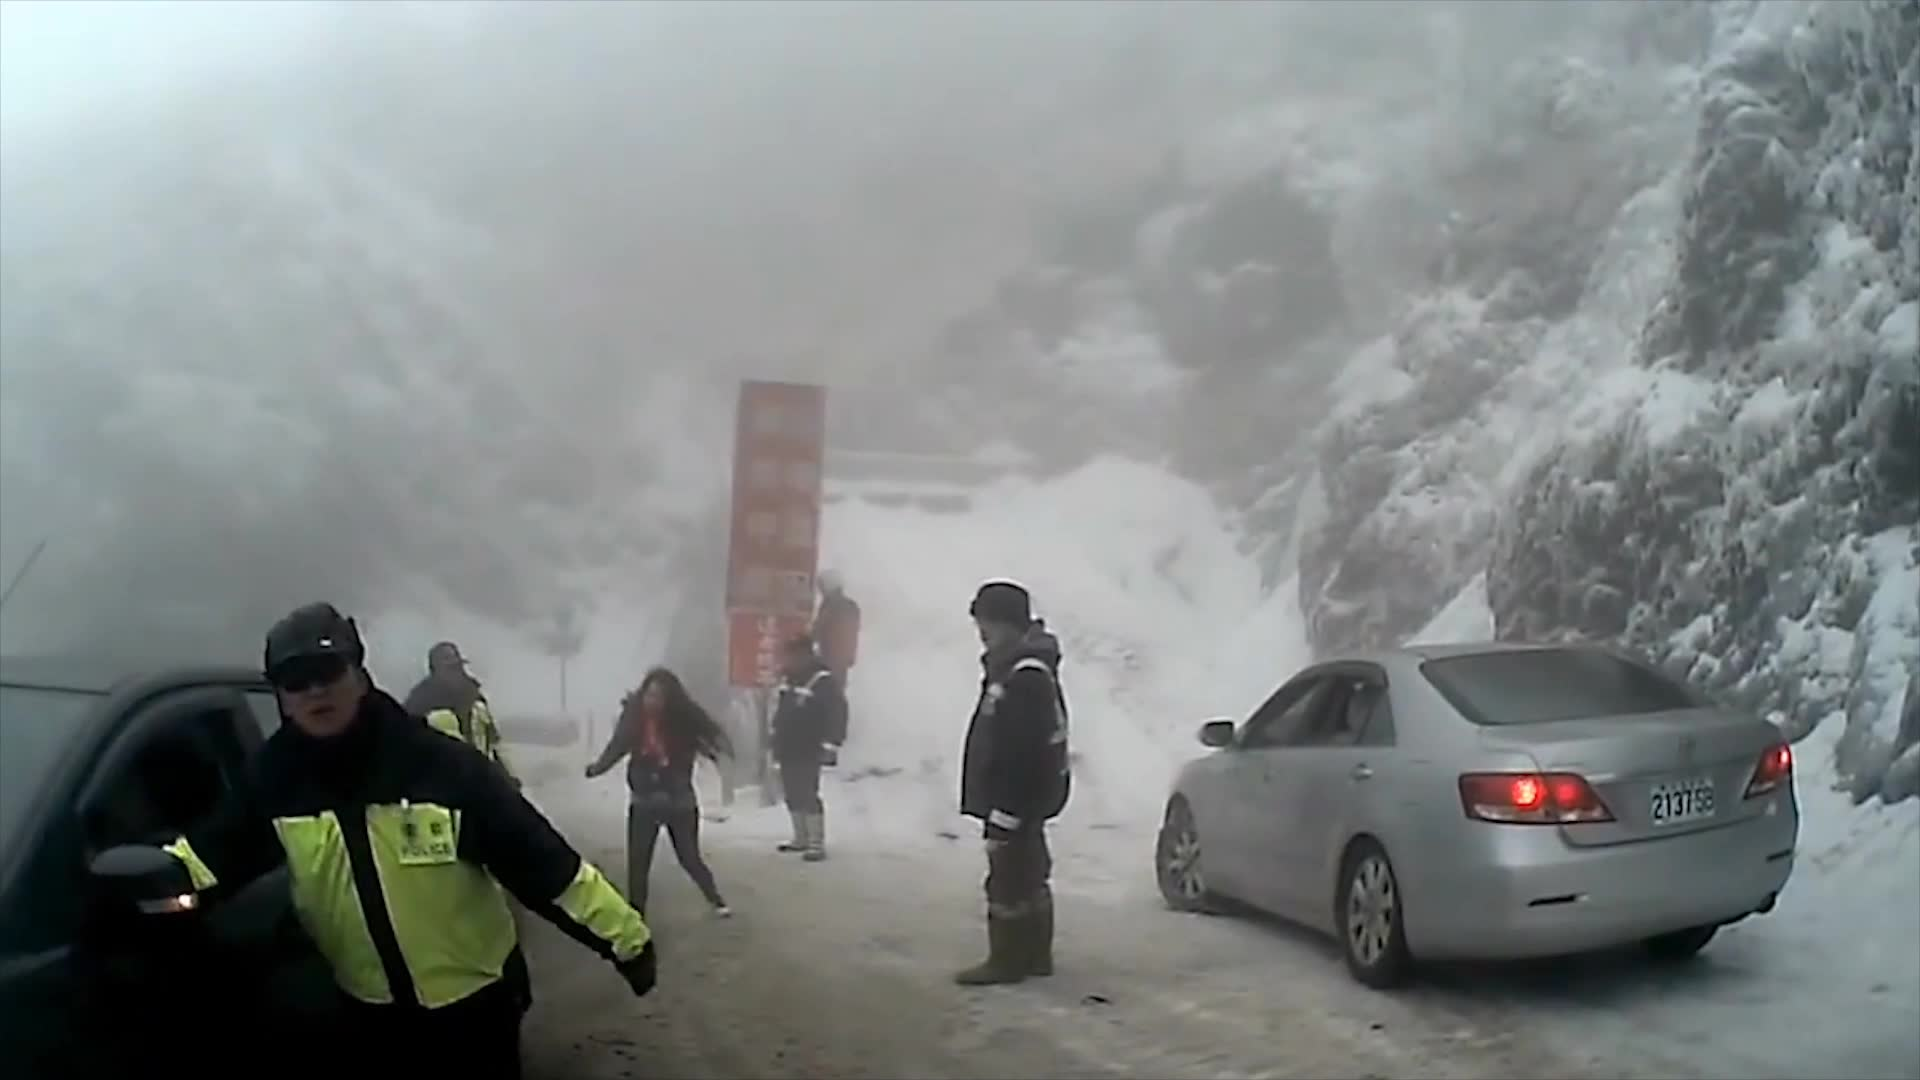pedestrian: (117, 601, 657, 1080), (945, 585, 1076, 986), (580, 671, 738, 938), (394, 643, 517, 928), (767, 640, 849, 864), (812, 566, 872, 757)
vehicle: (1155, 637, 1800, 988), (0, 655, 507, 1079)
